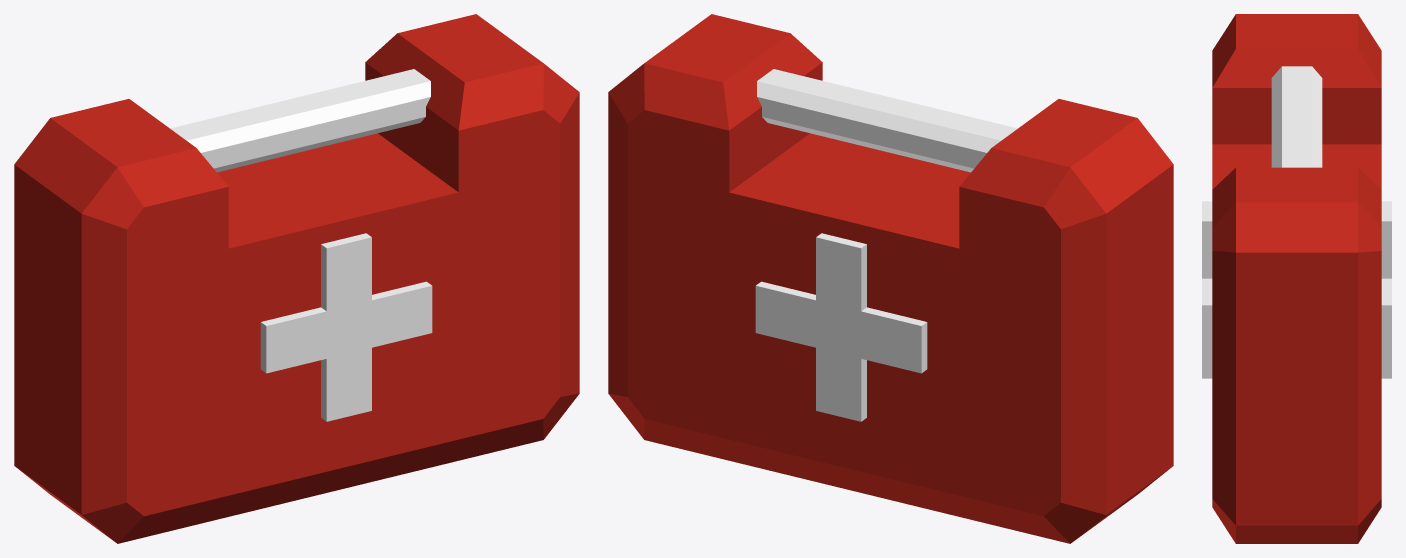
Rendered from mesh_aidKit.fbx.
The picture shows the model from 3 angles, left to right: view 1: azimuth 30°, elevation 25°; view 2: azimuth 150°, elevation 25°; view 3: azimuth 270°, elevation 25°; orthographic projection. The views are drawn at different scales.
Parts seen in each view (by area): view 1: mesh_aidkit_01; view 2: mesh_aidkit_01; view 3: mesh_aidkit_01.
Part boxes in pixels (box(x1,y1,x2,y2)): mesh_aidkit_01: box(14, 14, 579, 543); mesh_aidkit_01: box(608, 14, 1173, 543); mesh_aidkit_01: box(1202, 14, 1391, 543).
Size of the model in its own units: 11 by 7.95 by 4.01.
